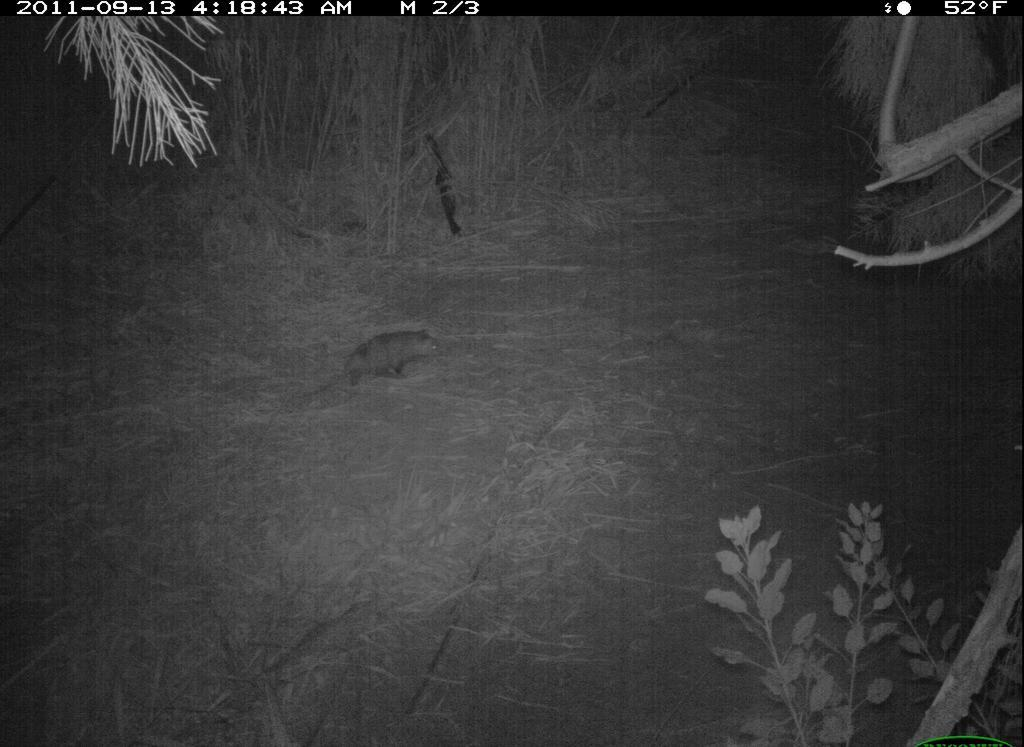opossum: (299, 317, 456, 414)
